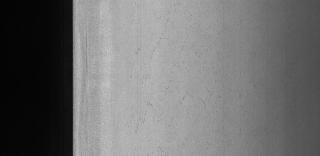silk spot: (126, 14, 207, 134)
